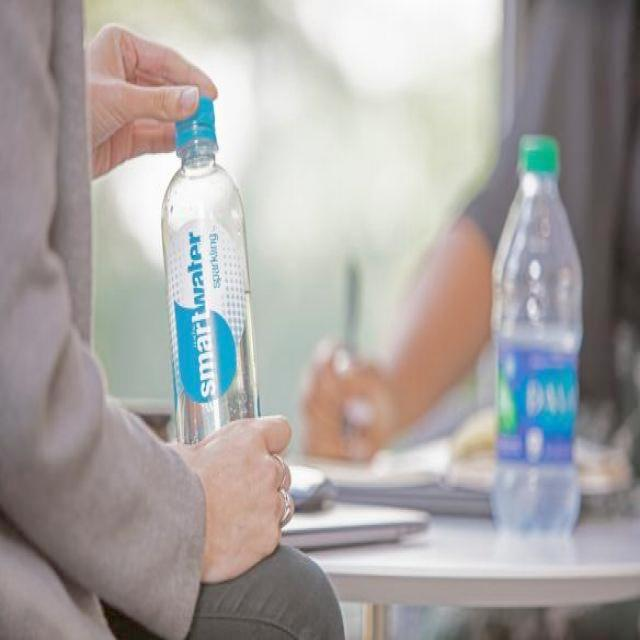bottle: (489, 134, 583, 540), (161, 95, 262, 445)
